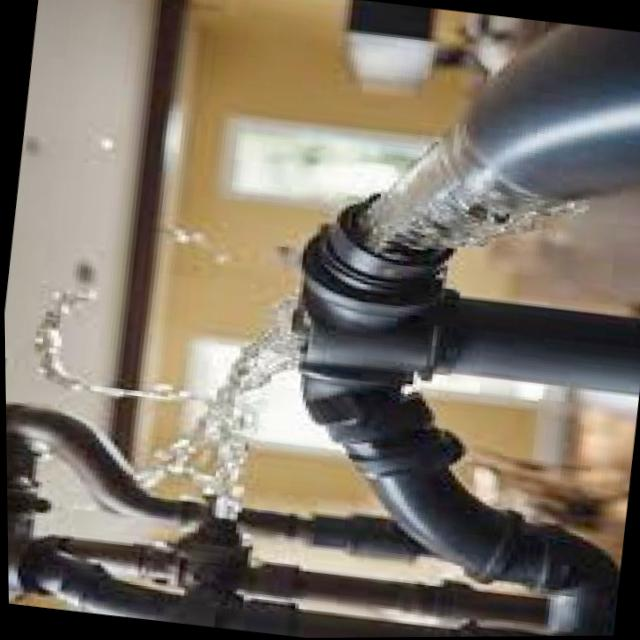leak: (18, 234, 306, 546), (361, 146, 617, 264)
